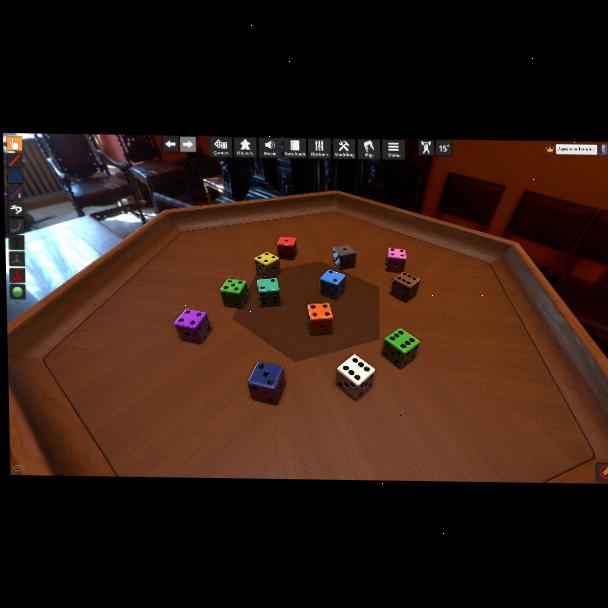d6: (246, 360, 286, 406), (335, 354, 374, 400), (382, 328, 420, 368), (173, 308, 211, 344), (389, 271, 420, 303), (306, 302, 334, 335), (219, 278, 248, 309), (320, 269, 347, 301), (255, 252, 281, 280), (257, 278, 280, 308), (332, 245, 355, 271), (385, 248, 406, 274), (276, 237, 297, 260)
